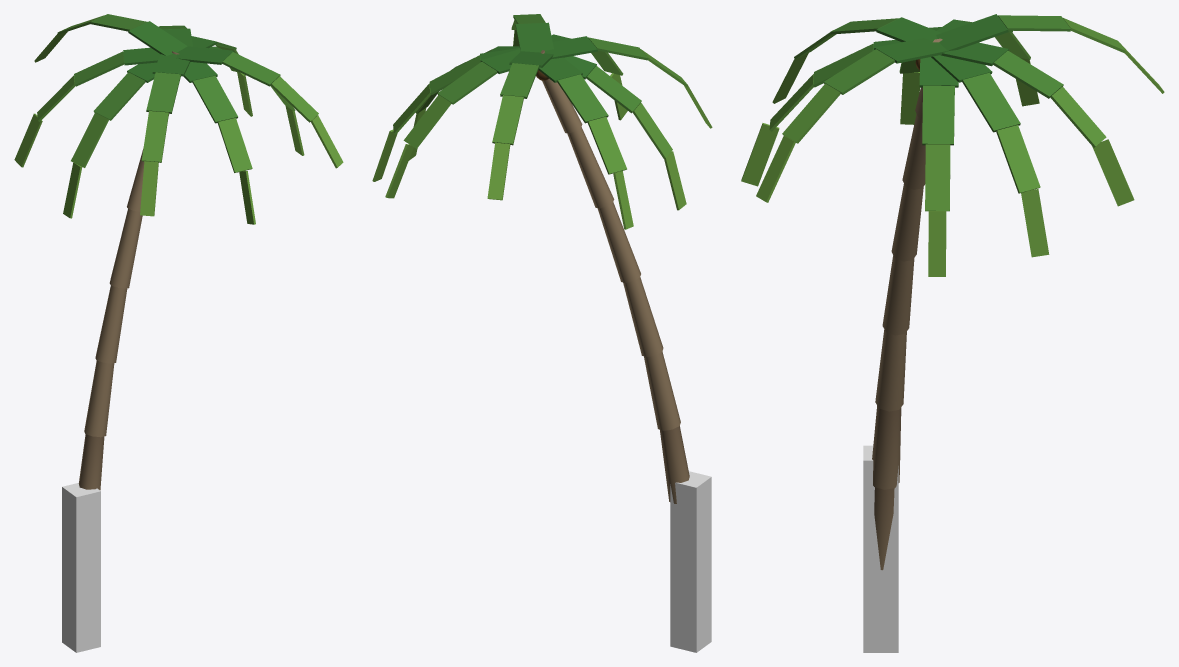
The model's file is cocotero_alto.glb.
The picture shows the model from 3 angles, left to right: view 1: azimuth 30°, elevation 25°; view 2: azimuth 150°, elevation 25°; view 3: azimuth 270°, elevation 25°; orthographic projection. The views are drawn at different scales.
Visible parts, largest first — view 1: cocotero_alto_Malla, COL_0; view 2: cocotero_alto_Malla, COL_0; view 3: cocotero_alto_Malla, COL_0.
Boxes of the visible parts, <box> form: cocotero_alto_Malla: <box>14,14,343,490</box>; COL_0: <box>62,482,100,652</box>; cocotero_alto_Malla: <box>372,14,712,503</box>; COL_0: <box>670,471,711,652</box>; cocotero_alto_Malla: <box>741,14,1164,570</box>; COL_0: <box>863,445,898,652</box>.
Size of the model in its own units: 5.13 by 10.74 by 5.99.
